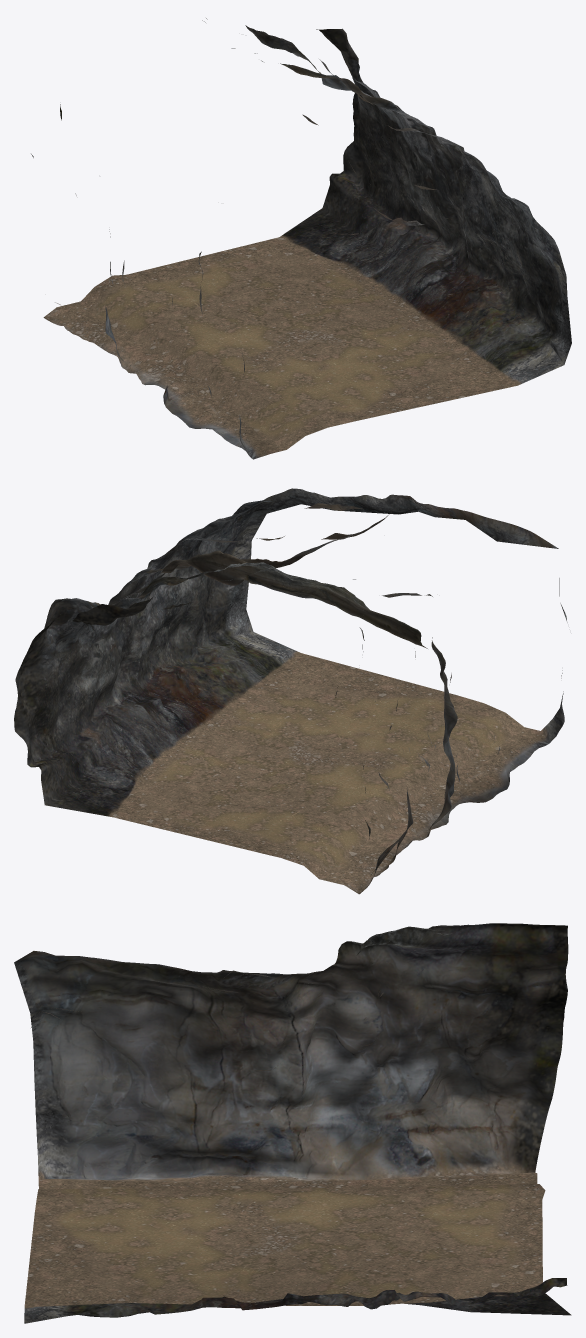
The model's file is TunnelA6.glb.
3 views of the same model, one above another, from view 1: azimuth 30°, elevation 25°; view 2: azimuth 150°, elevation 25°; view 3: azimuth 270°, elevation 25° (orthographic). The views are drawn at different scales.
Parts seen in each view (by area): view 1: TunnelA6; view 2: TunnelA6; view 3: TunnelA6.
Boxes of the visible parts, x1,y1,x2,y2 form: TunnelA6: [31, 18, 571, 459]; TunnelA6: [14, 488, 567, 894]; TunnelA6: [14, 923, 571, 1323].
Bounding box in the file's own units: 4.58 × 3.12 × 5.08.
1 material, 1 textured.
